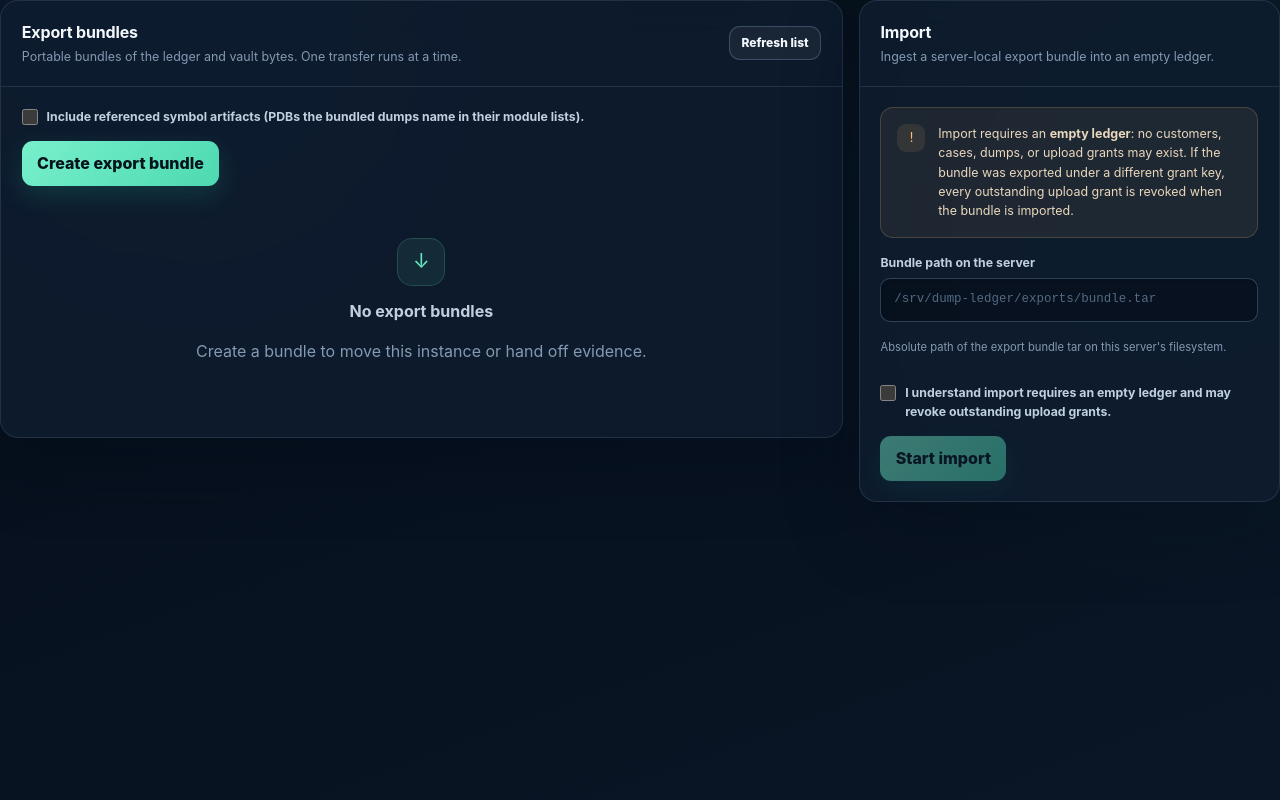
Test: Export / Import section › gates import behind path validation and the strict confirmation
This screenshot has width=1280, height=800.
Check: the text "If the bundle was exported under a different grant key" is shown, box [938,126,1225,218]
Check: the button "Start import" is disabled, box [880,436,1006,481]
Type "/srv/bundles/bundle.tar" into the field labelled "Bundle path on the server" at [1069, 300], box [880,278,1258,322]
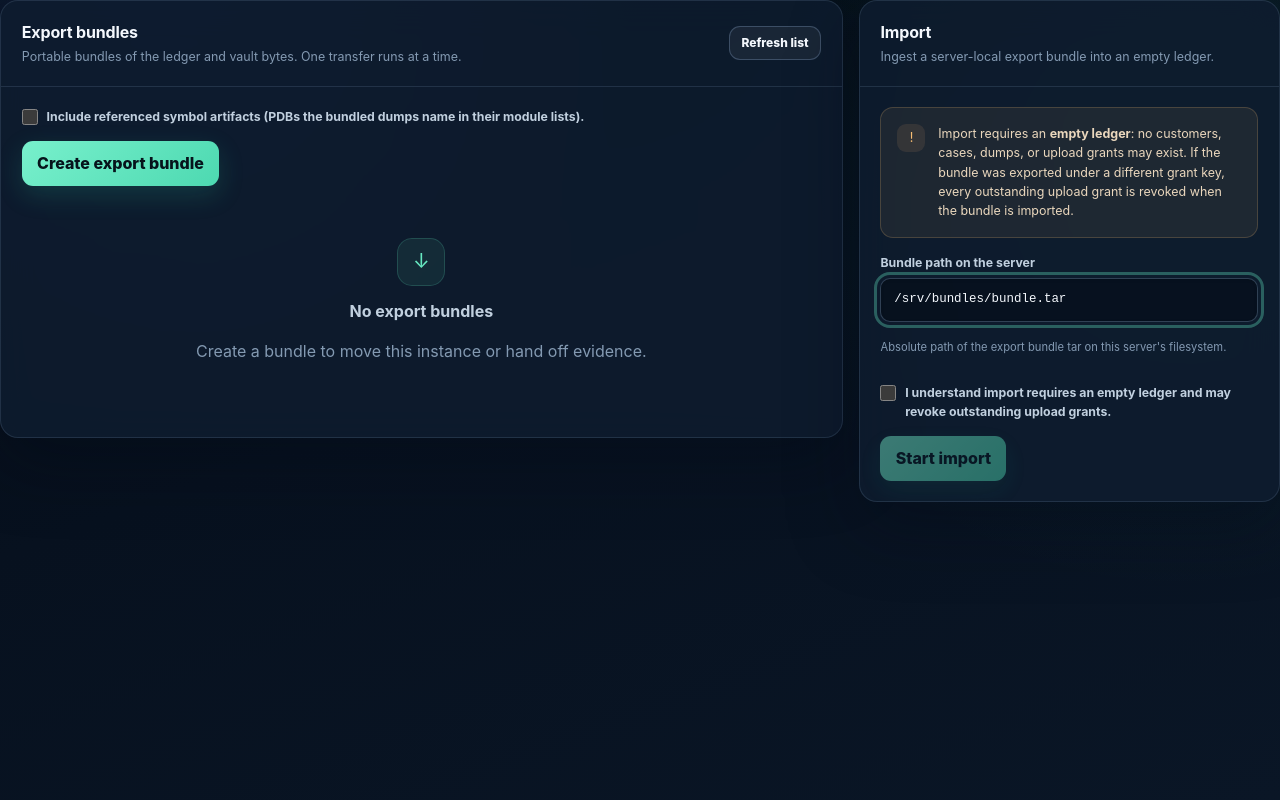
Check: the button "Start import" is disabled, box [880,436,1006,481]
Click the checkbox labelled "I understand import requires an empty ledger" at [888, 393], box [880,385,896,401]
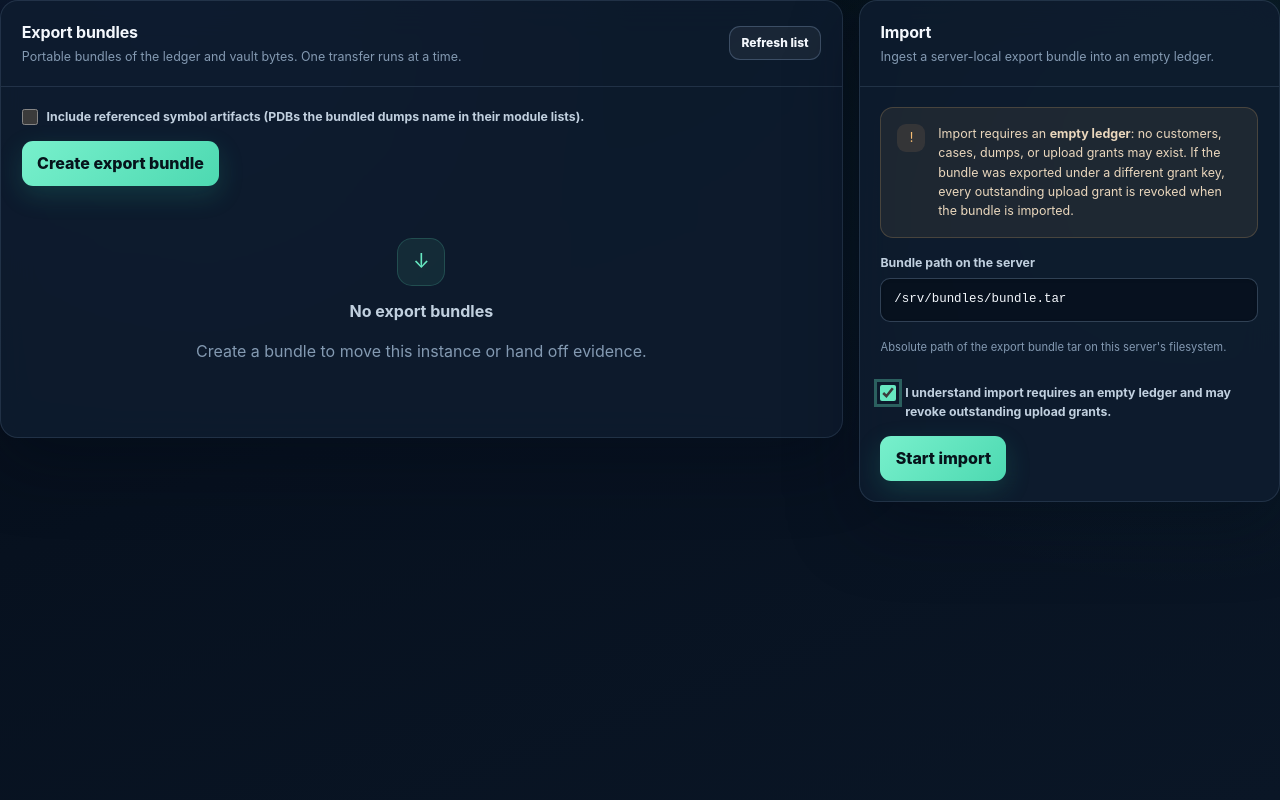
Check: the button "Start import" is enabled, box [880,436,1006,481]
Clear the field labelled "Bundle path on the server" at [1069, 300], box [880,278,1258,322]
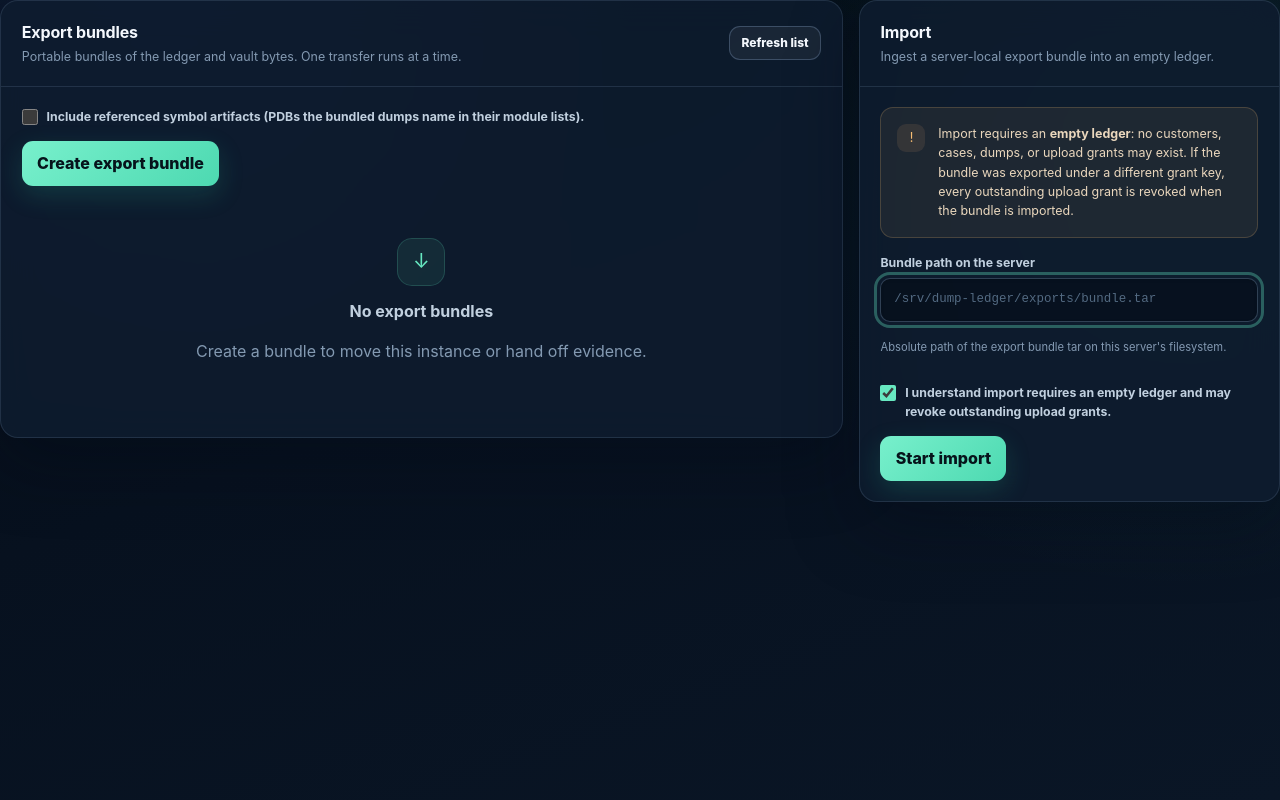
Click the button "Start import" at [943, 459], box [880,436,1006,481]
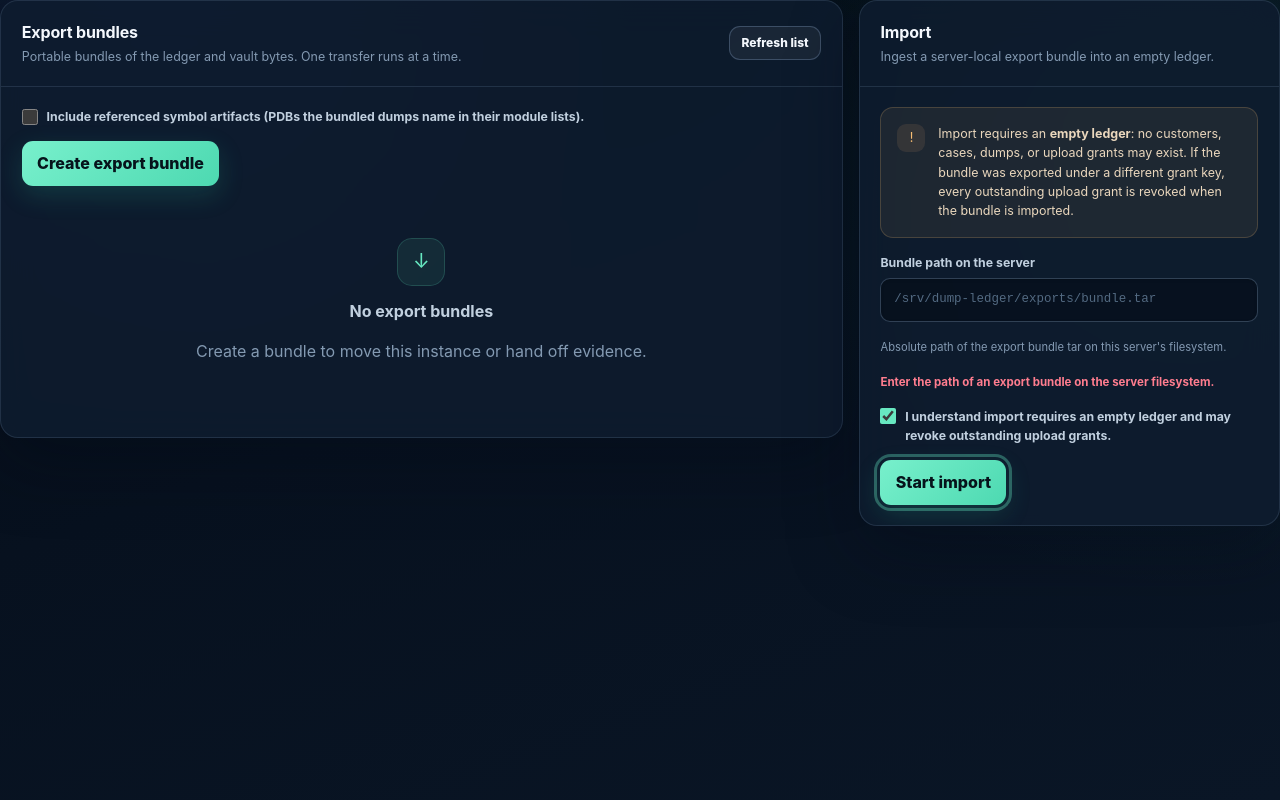
Check: the message "Enter the path of an export bundle on the server filesystem." is shown, box [880,374,1258,392]
